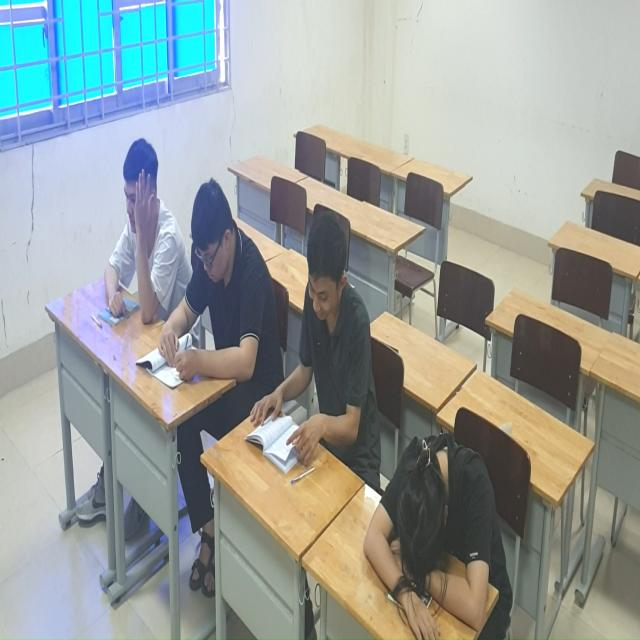raise_hand: (96, 132, 178, 332)
read: (244, 208, 383, 475), (131, 178, 269, 399)
sleep: (348, 424, 519, 640)
